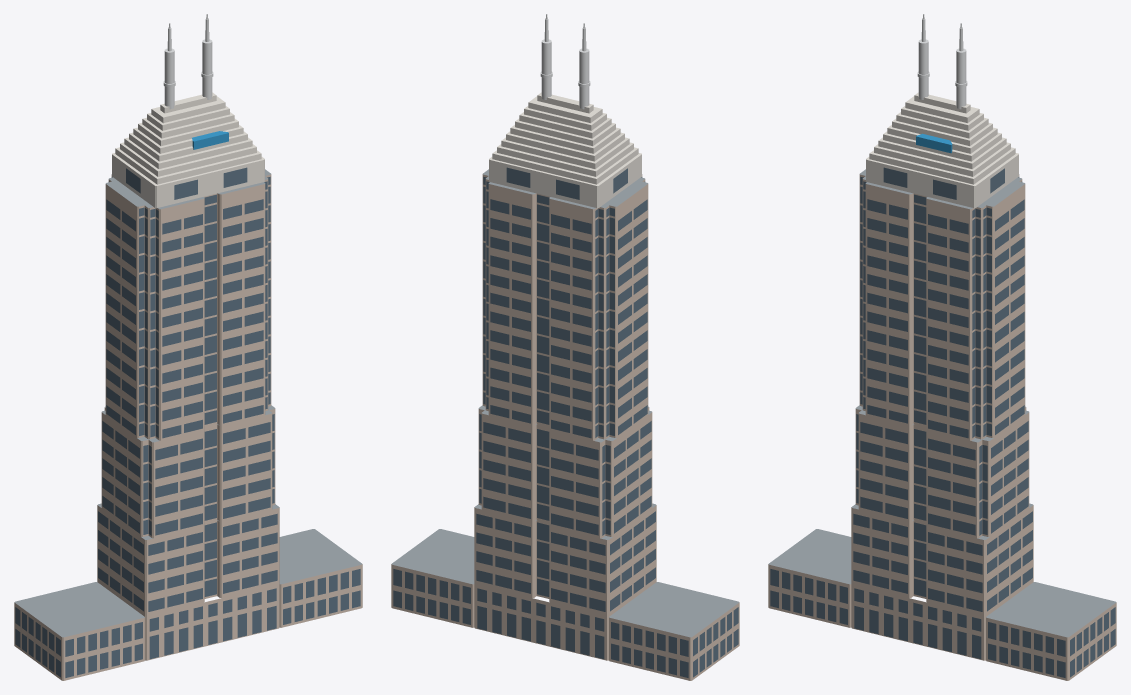
The model's file is indy-salesforce-tower.glb.
The picture shows the model from 3 angles, left to right: view 1: azimuth 30°, elevation 25°; view 2: azimuth 150°, elevation 25°; view 3: azimuth 330°, elevation 25°; orthographic projection.
Parts seen in each view (by area): view 1: Salesforce Tower; view 2: Salesforce Tower; view 3: Salesforce Tower.
Part boxes in pixels (left/top/right/bottom): Salesforce Tower: left=14, top=14, right=362, bottom=680; Salesforce Tower: left=391, top=14, right=739, bottom=680; Salesforce Tower: left=768, top=14, right=1116, bottom=680.
Bounding box in the file's own units: 128 × 247 × 36.1.
